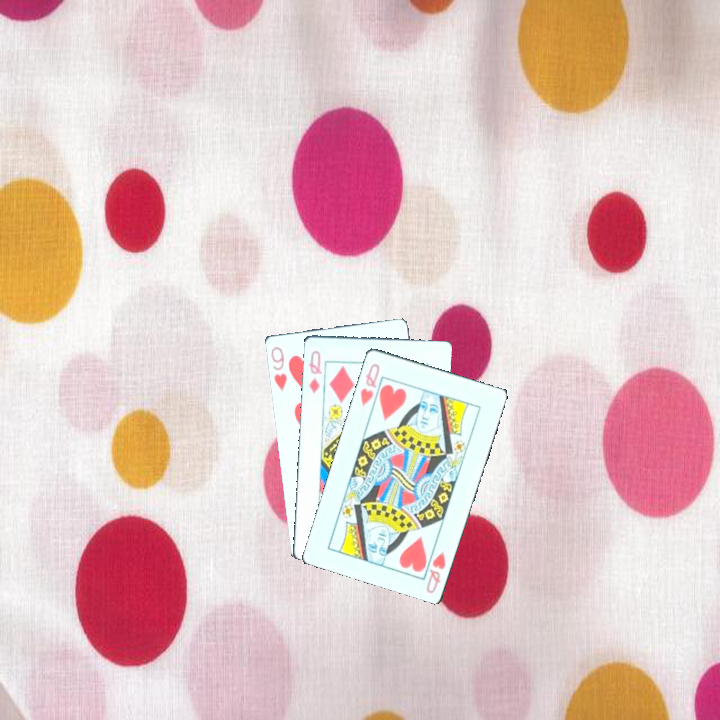9h: (267, 342, 299, 394)
Qd: (304, 347, 332, 396)
Qh: (356, 359, 389, 412), (422, 547, 448, 596)
